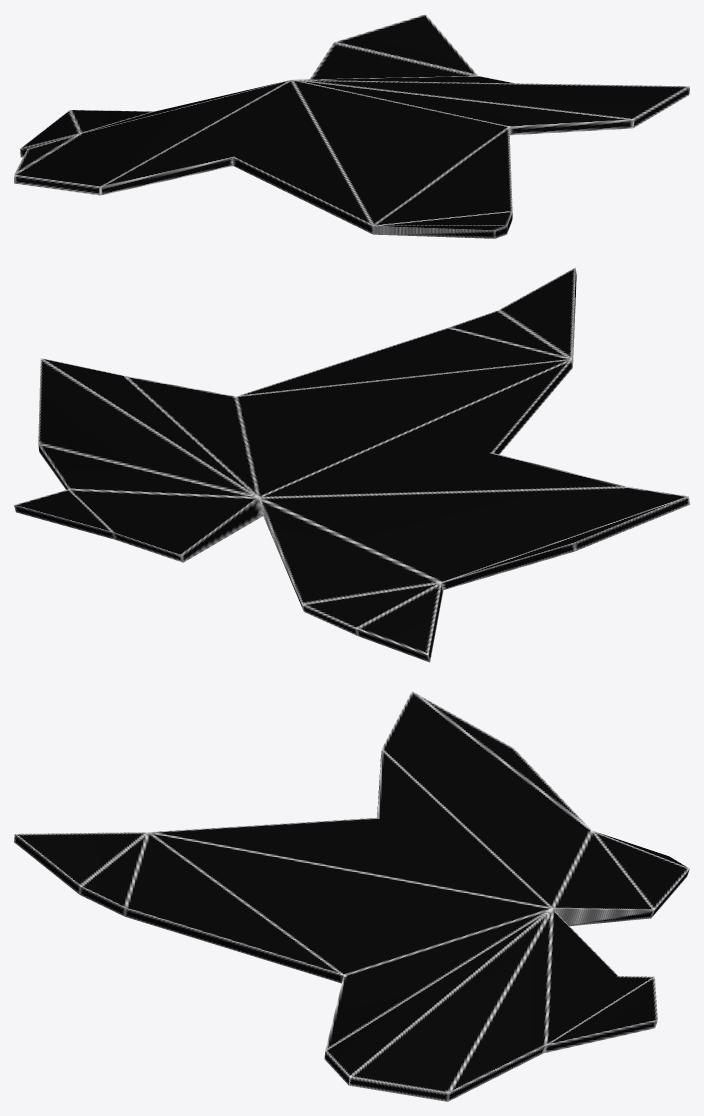
Rendered from ivy-leaf.fbx.
3 views of the same model, one above another, from view 1: azimuth 30°, elevation 25°; view 2: azimuth 150°, elevation 25°; view 3: azimuth 270°, elevation 25° (orthographic). The views are drawn at different scales.
Parts seen in each view (by area): view 1: ivy_leaf; view 2: ivy_leaf; view 3: ivy_leaf.
Boxes of the visible parts, box(x1,y1,x2,y2) form: ivy_leaf: box(14, 14, 689, 238); ivy_leaf: box(14, 267, 689, 662); ivy_leaf: box(14, 691, 689, 1101).
Bounding box in the file's own units: 2.82 × 0.4608 × 2.39.
